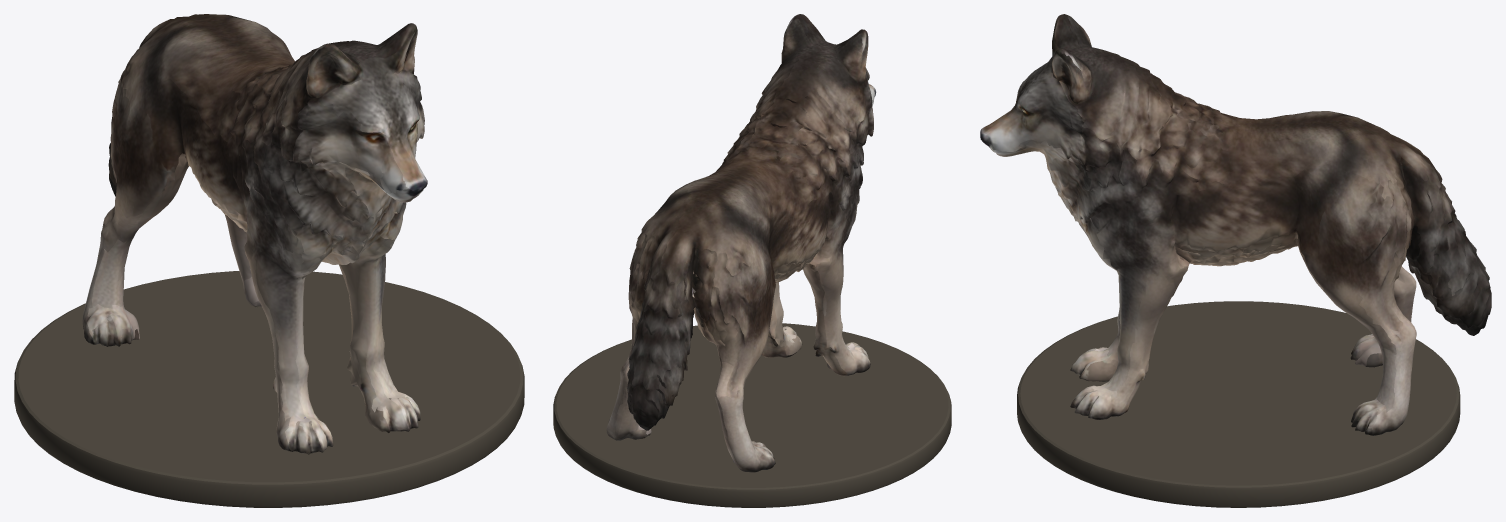
File: wolf.glb
The picture shows the model from 3 angles, left to right: view 1: azimuth 30°, elevation 25°; view 2: azimuth 150°, elevation 25°; view 3: azimuth 270°, elevation 25°; orthographic projection. The views are drawn at different scales.
Parts seen in each view (by area): view 1: wolf_body, wolf_round_base; view 2: wolf_body, wolf_round_base; view 3: wolf_body, wolf_round_base.
Part boxes in pixels (left/top/right/bottom): wolf_body: left=82, top=14, right=427, bottom=454; wolf_round_base: left=14, top=271, right=524, bottom=507; wolf_body: left=606, top=14, right=876, bottom=472; wolf_round_base: left=553, top=323, right=951, bottom=507; wolf_body: left=980, top=14, right=1491, bottom=435; wolf_round_base: left=1017, top=301, right=1460, bottom=507.
Size of the model in its own units: 1 by 0.955 by 1.15.
2 materials, 1 textured.
